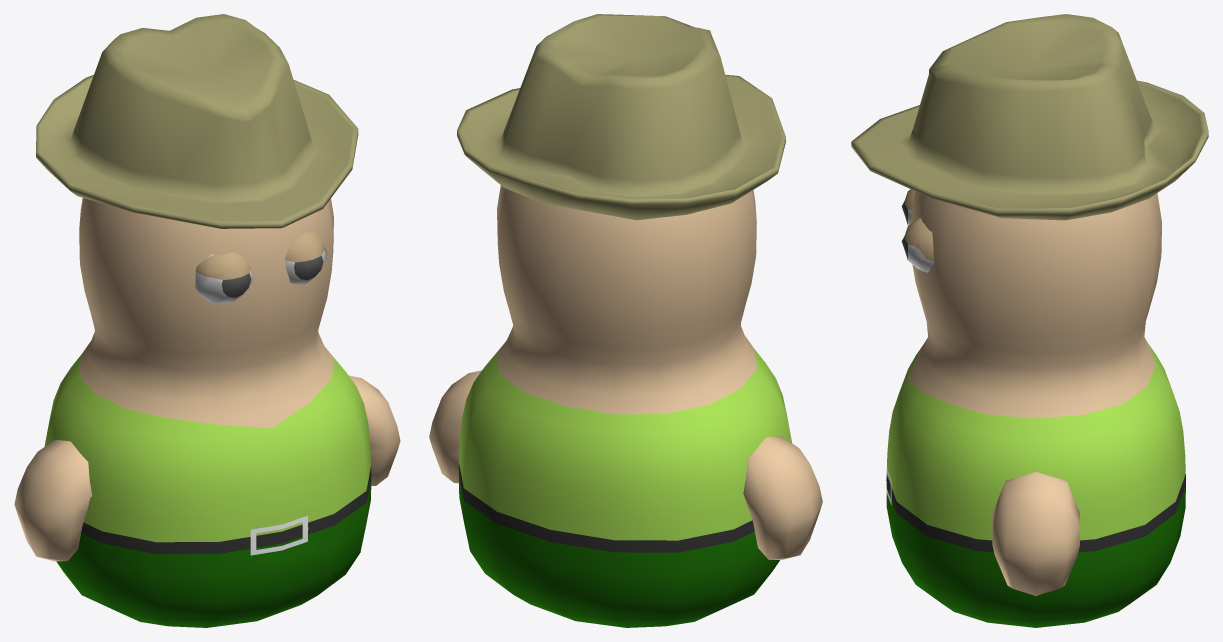
File: Citizen1.fbx
3 renders of one model, left to right at view 1: azimuth 30°, elevation 25°; view 2: azimuth 150°, elevation 25°; view 3: azimuth 270°, elevation 25°, orthographic. The views are drawn at different scales.
Visible parts, largest first — view 1: Cube.003; view 2: Cube.003; view 3: Cube.003.
Part boxes in pixels (x1=…): Cube.003: x1=14, y1=14, x2=400, y2=627; Cube.003: x1=429, y1=14, x2=822, y2=627; Cube.003: x1=851, y1=14, x2=1208, y2=627.
Size of the model in its own units: 2.04 by 2.91 by 1.73.
